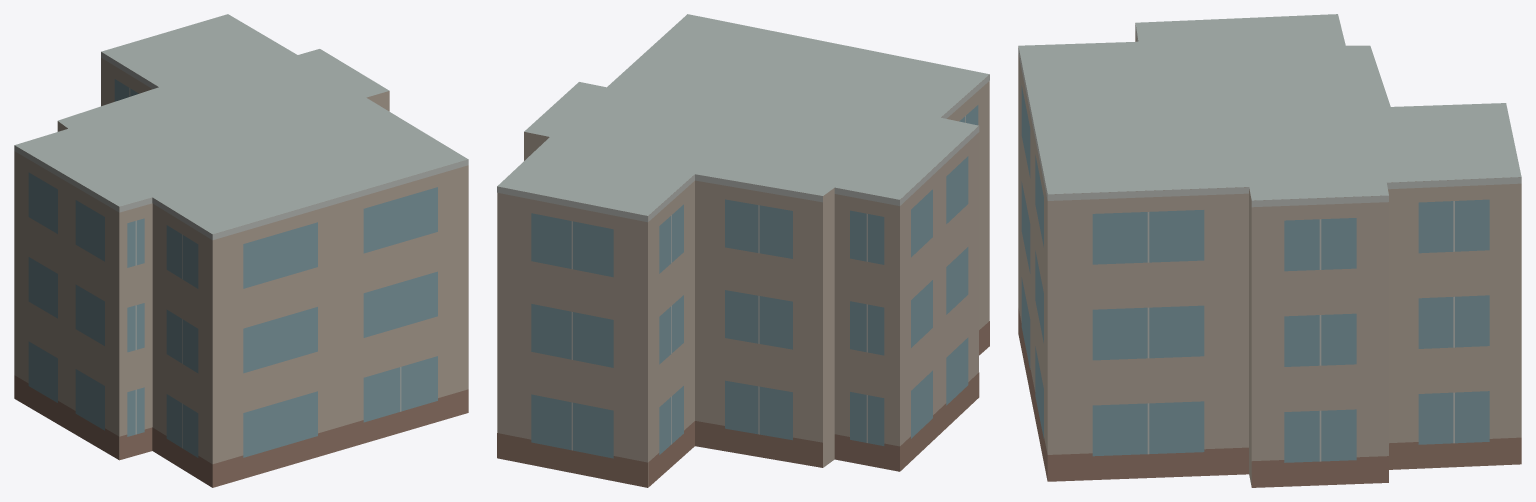
Rendered from survey-upis-32475376.glb.
3 renders of one model, left to right at view 1: azimuth 30°, elevation 25°; view 2: azimuth 150°, elevation 25°; view 3: azimuth 270°, elevation 25°, orthographic. The views are drawn at different scales.
Parts seen in each view (by area): view 1: survey-upis-32475376.tmp; view 2: survey-upis-32475376.tmp; view 3: survey-upis-32475376.tmp.
Part boxes in pixels (box(x1,y1,x2,y2)): survey-upis-32475376.tmp: box(14, 14, 468, 487); survey-upis-32475376.tmp: box(497, 14, 989, 487); survey-upis-32475376.tmp: box(1018, 14, 1521, 487).
Size of the model in its own units: 14.63 by 10.5 by 16.68.
